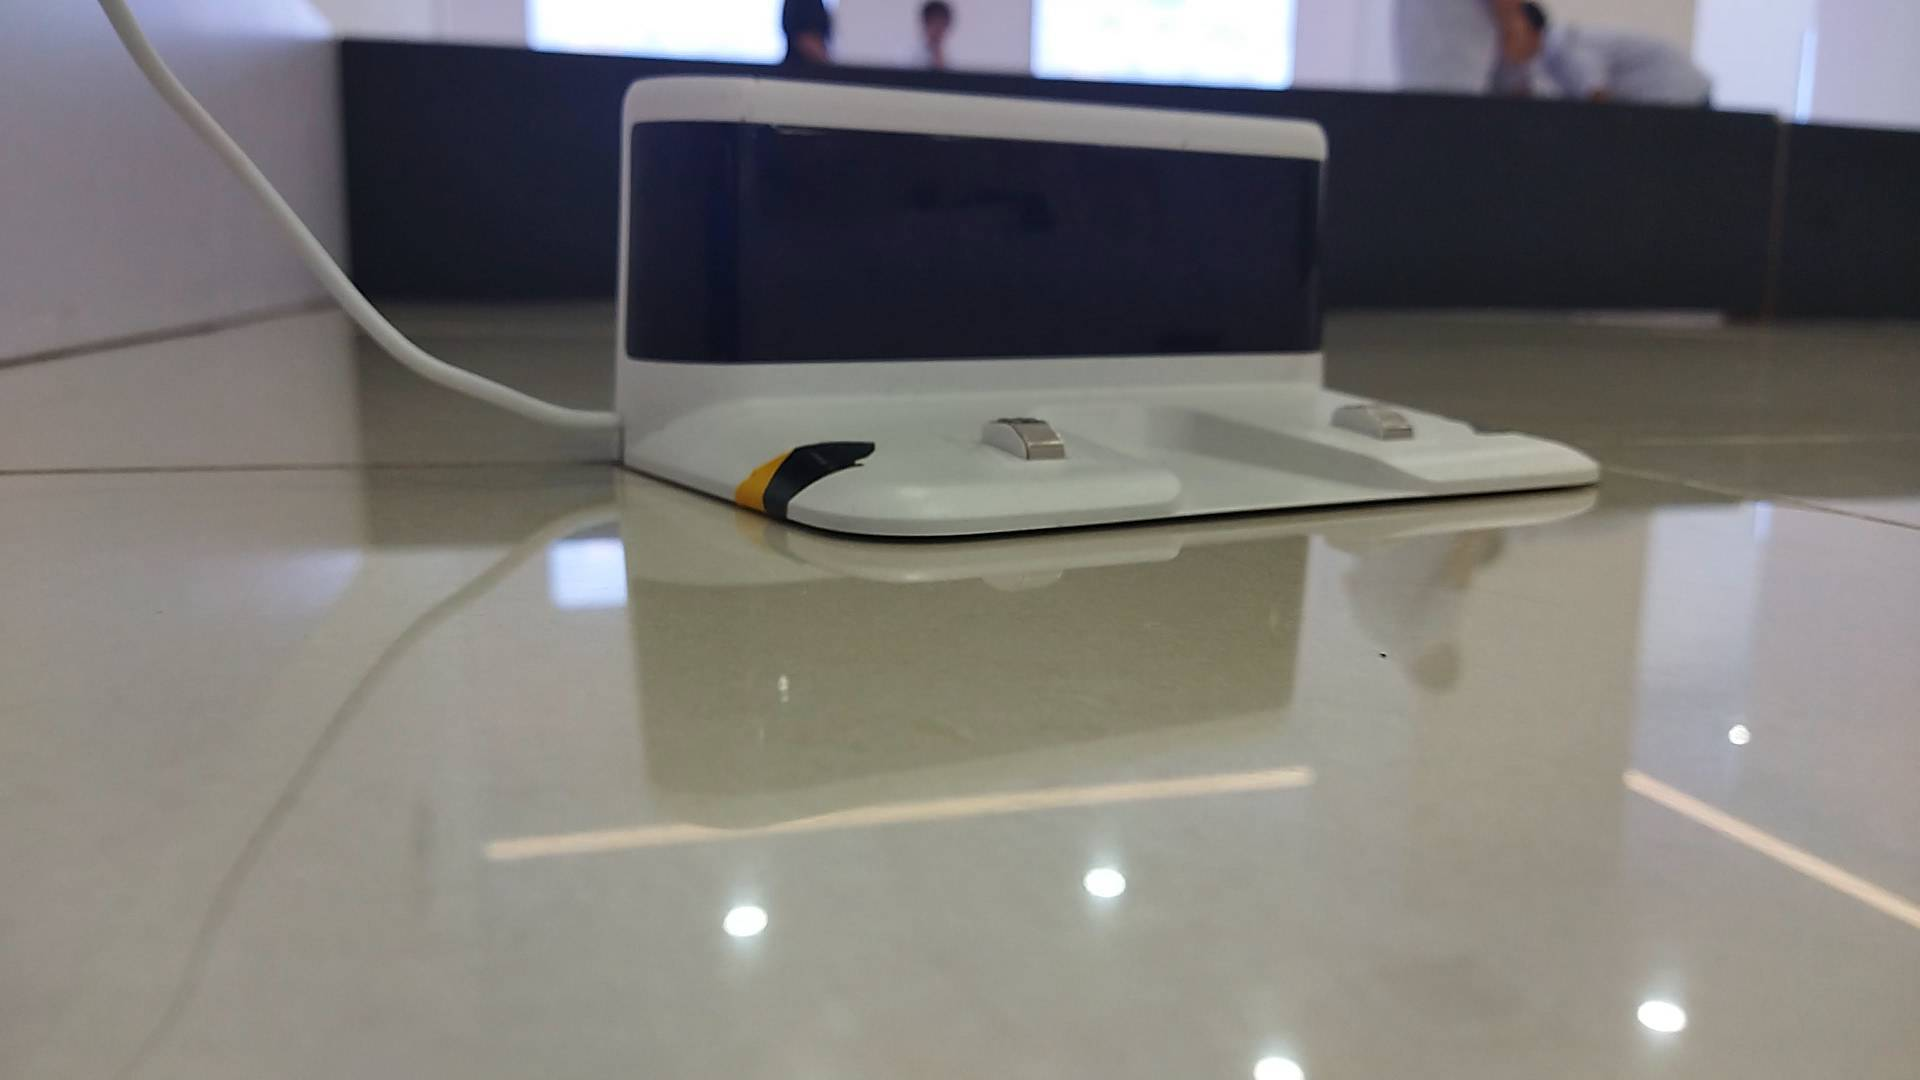recharge seat: (612, 74, 1604, 538)
